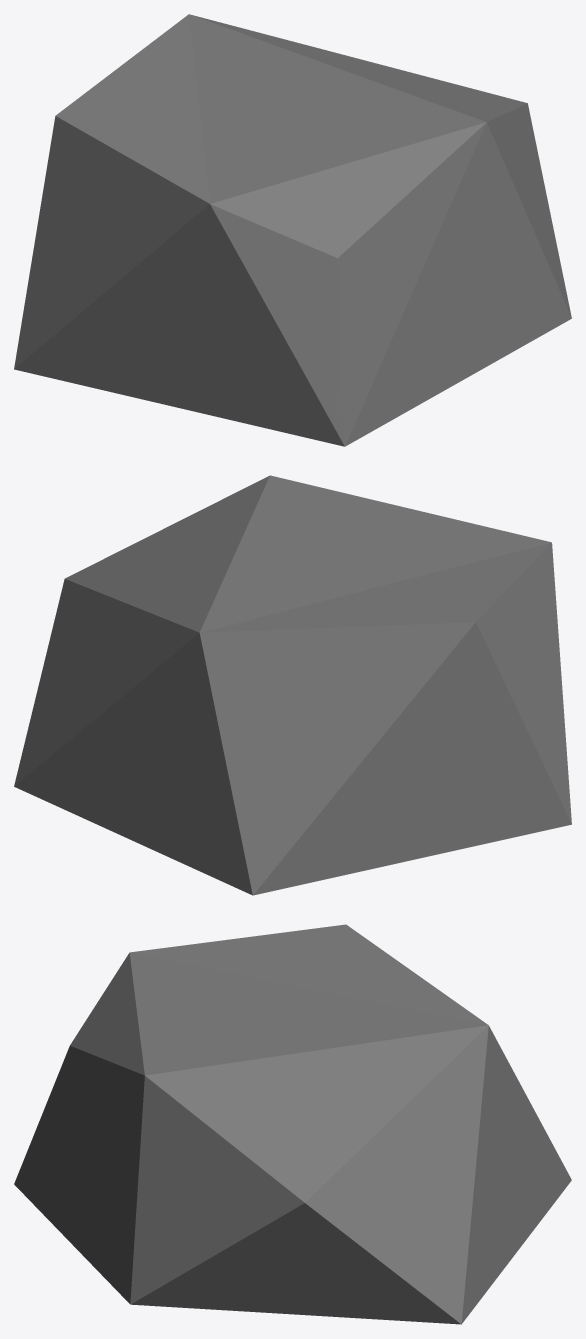
File: Rock_02.fbx
3 views of the same model, one above another, from view 1: azimuth 30°, elevation 25°; view 2: azimuth 150°, elevation 25°; view 3: azimuth 270°, elevation 25° (orthographic). The views are drawn at different scales.
Visible parts, largest first — view 1: Rock_02; view 2: Rock_02; view 3: Rock_02.
Part boxes in pixels (<box>): Rock_02: <box>14,14,571,446</box>; Rock_02: <box>14,475,571,895</box>; Rock_02: <box>14,924,571,1324</box>.
Size of the model in its own units: 1.51 by 0.7343 by 1.51.
